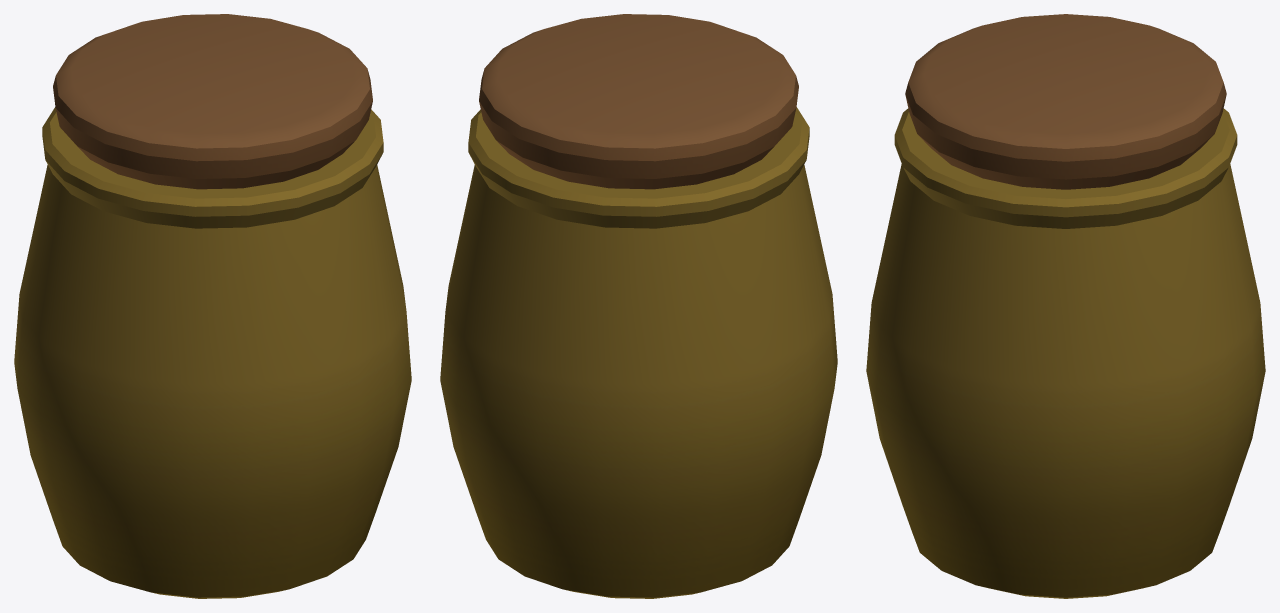
The model's file is Jar_70s_v1.fbx.
3 renders of one model, left to right at view 1: azimuth 30°, elevation 25°; view 2: azimuth 150°, elevation 25°; view 3: azimuth 270°, elevation 25°, orthographic.
Visible parts, largest first — view 1: P_Jar_70s; view 2: P_Jar_70s; view 3: P_Jar_70s.
Boxes of the visible parts, x1,y1,x2,y2 form: P_Jar_70s: (14,14,411,598); P_Jar_70s: (440,14,837,598); P_Jar_70s: (866,14,1265,598).
Size of the model in its own units: 1.41 by 1.83 by 1.41.
